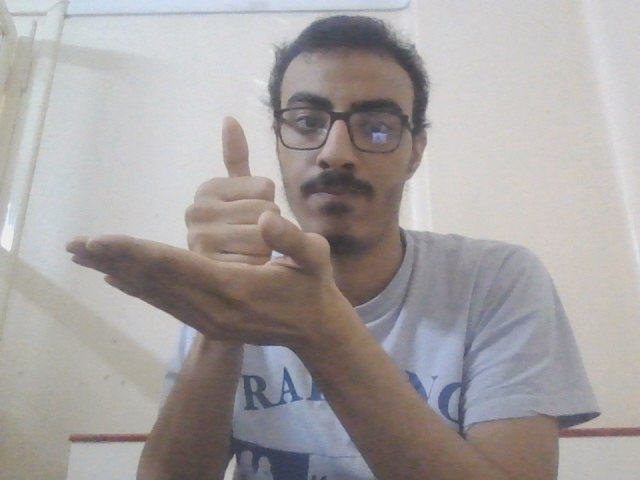Help: (61, 114, 356, 351)
